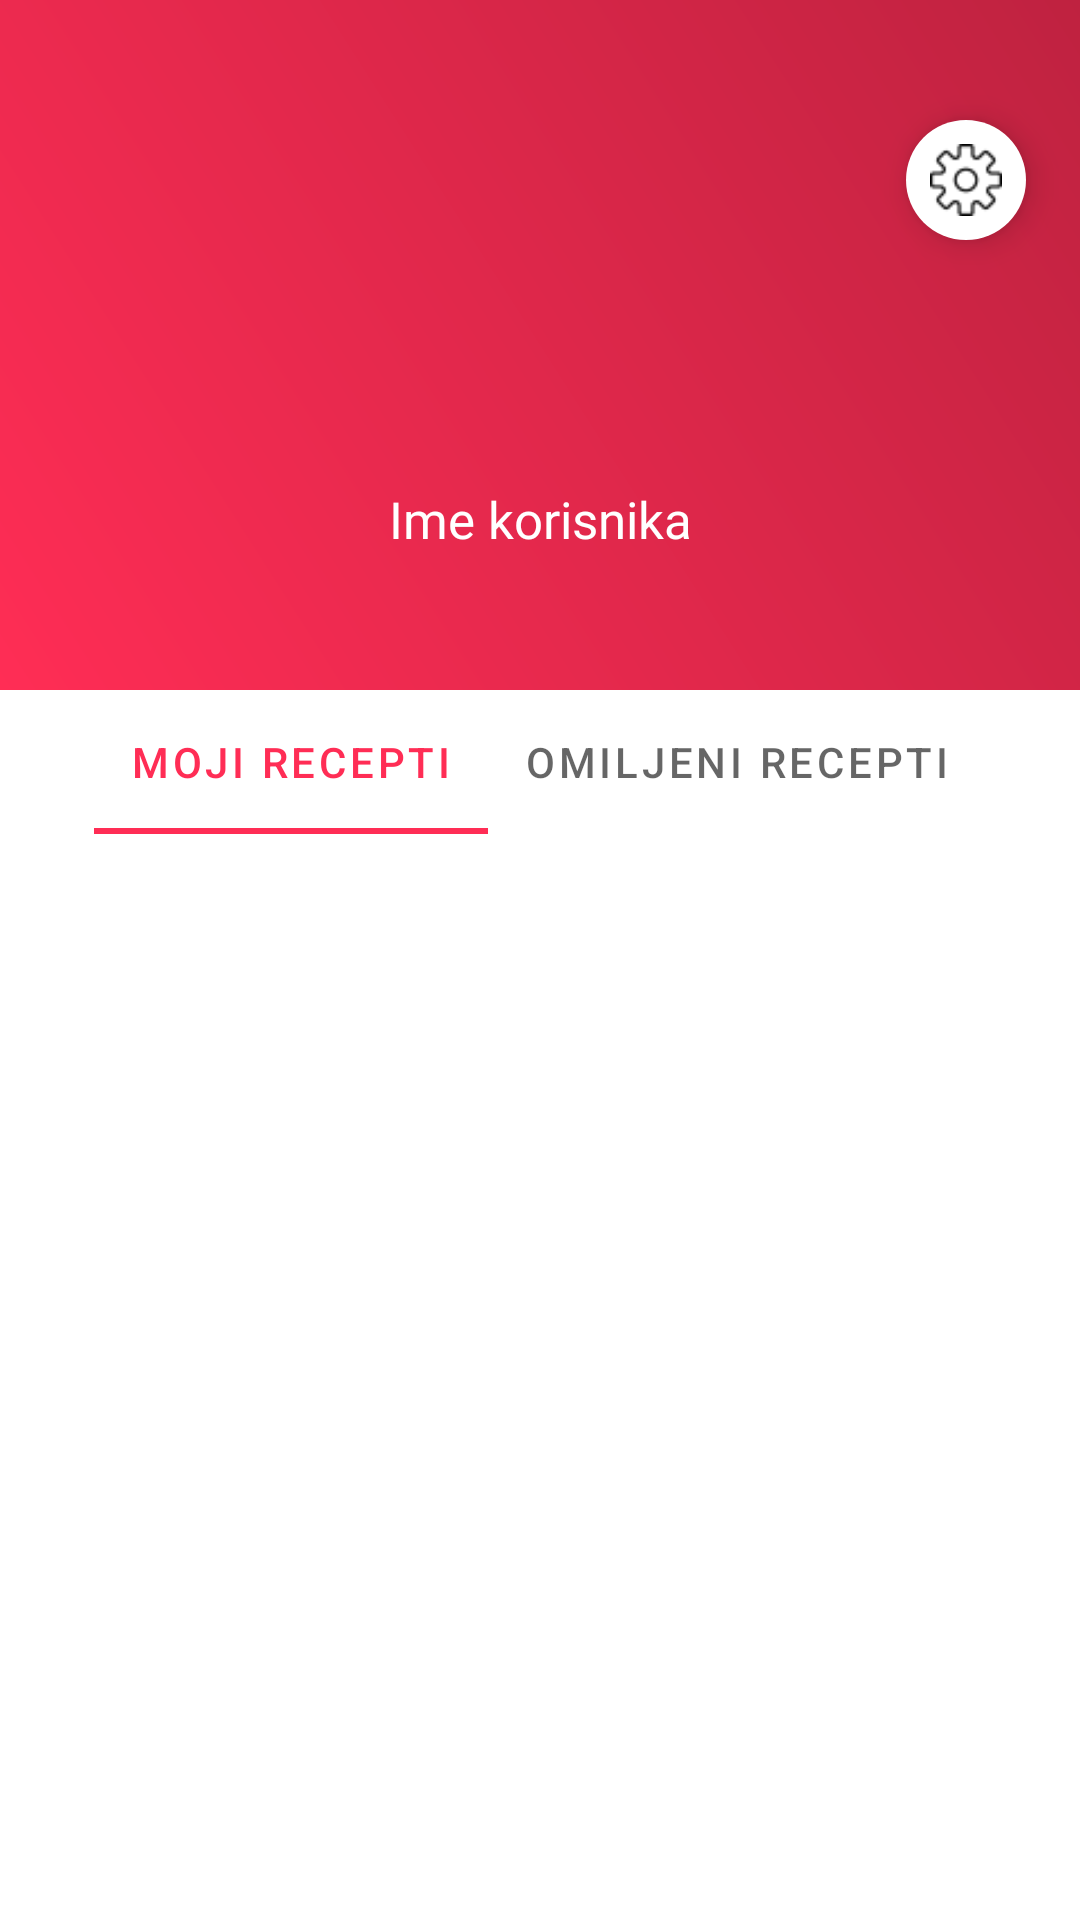

Screen size 1080w x 1920h. Icon name, then its box in pixels as bbox=[x1, y1, x2, y2]:
gear: bbox=[906, 120, 1026, 240]
